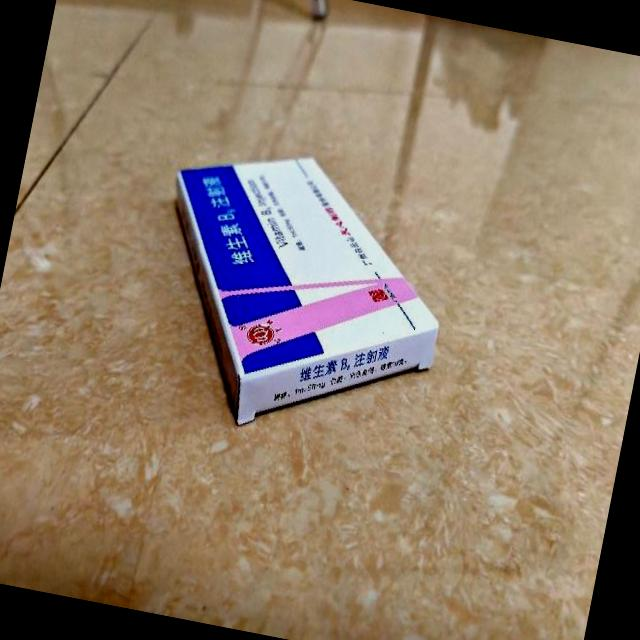box: (134, 134, 467, 458)
